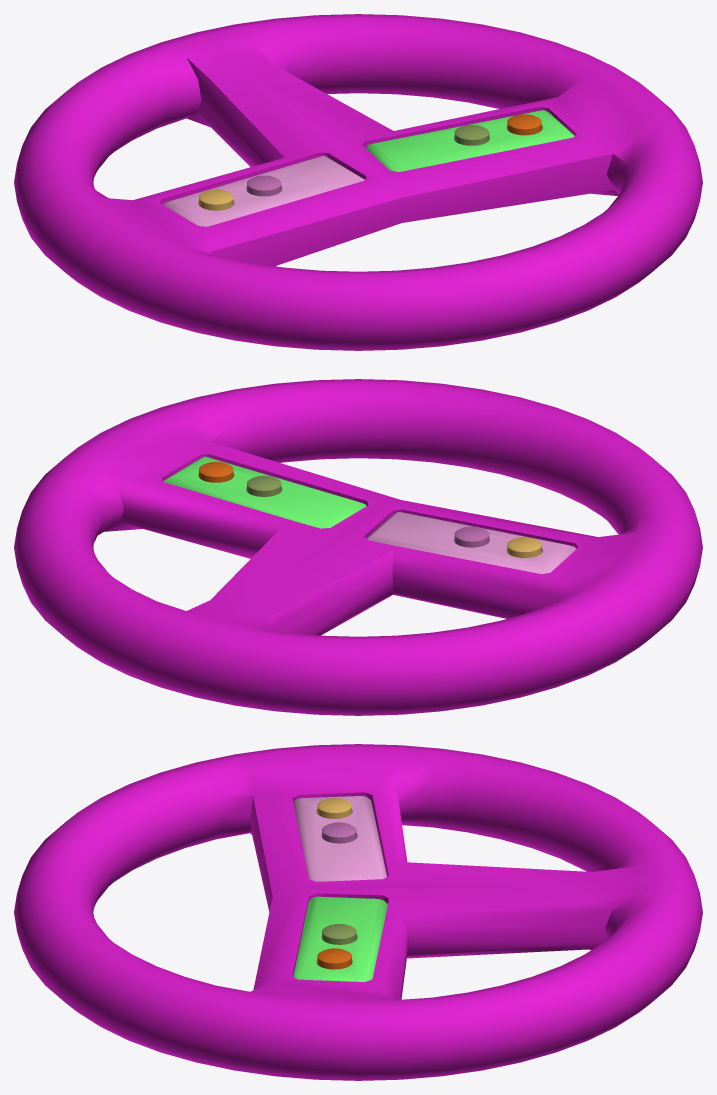
3 views of the same model, one above another, from view 1: azimuth 30°, elevation 25°; view 2: azimuth 150°, elevation 25°; view 3: azimuth 270°, elevation 25° (orthographic).
Parts seen in each view (by area): view 1: Torus.003_0, Cube_0.006, Cube_0, Bouton.001_0, Bouton.001_0.087, Bouton_0.087, Bouton_0; view 2: Torus.003_0, Cube_0, Cube_0.006, Bouton_0, Bouton_0.087, Bouton.001_0, Bouton.001_0.087; view 3: Torus.003_0, Cube_0.006, Cube_0, Bouton.001_0.087, Bouton_0, Bouton.001_0, Bouton_0.087.
Part boxes in pixels (bbox=[...]): Torus.003_0: bbox=[14, 14, 702, 350]; Cube_0.006: bbox=[366, 110, 574, 171]; Cube_0: bbox=[163, 155, 364, 226]; Bouton.001_0: bbox=[199, 189, 233, 210]; Bouton.001_0.087: bbox=[507, 114, 541, 135]; Bouton_0.087: bbox=[454, 124, 489, 145]; Bouton_0: bbox=[247, 175, 281, 196]; Torus.003_0: bbox=[14, 379, 702, 715]; Cube_0: bbox=[366, 512, 576, 573]; Cube_0.006: bbox=[163, 456, 366, 528]; Bouton_0: bbox=[454, 526, 489, 547]; Bouton_0.087: bbox=[247, 475, 281, 496]; Bouton.001_0: bbox=[507, 537, 541, 557]; Bouton.001_0.087: bbox=[199, 462, 233, 482]; Torus.003_0: bbox=[14, 744, 702, 1080]; Cube_0.006: bbox=[293, 896, 387, 981]; Cube_0: bbox=[293, 796, 386, 881]; Bouton.001_0.087: bbox=[317, 948, 351, 969]; Bouton_0: bbox=[322, 822, 356, 843]; Bouton.001_0: bbox=[317, 798, 351, 818]; Bouton_0.087: bbox=[322, 924, 356, 944].
Bounding box in the file's own units: 1 × 0.1155 × 1.
